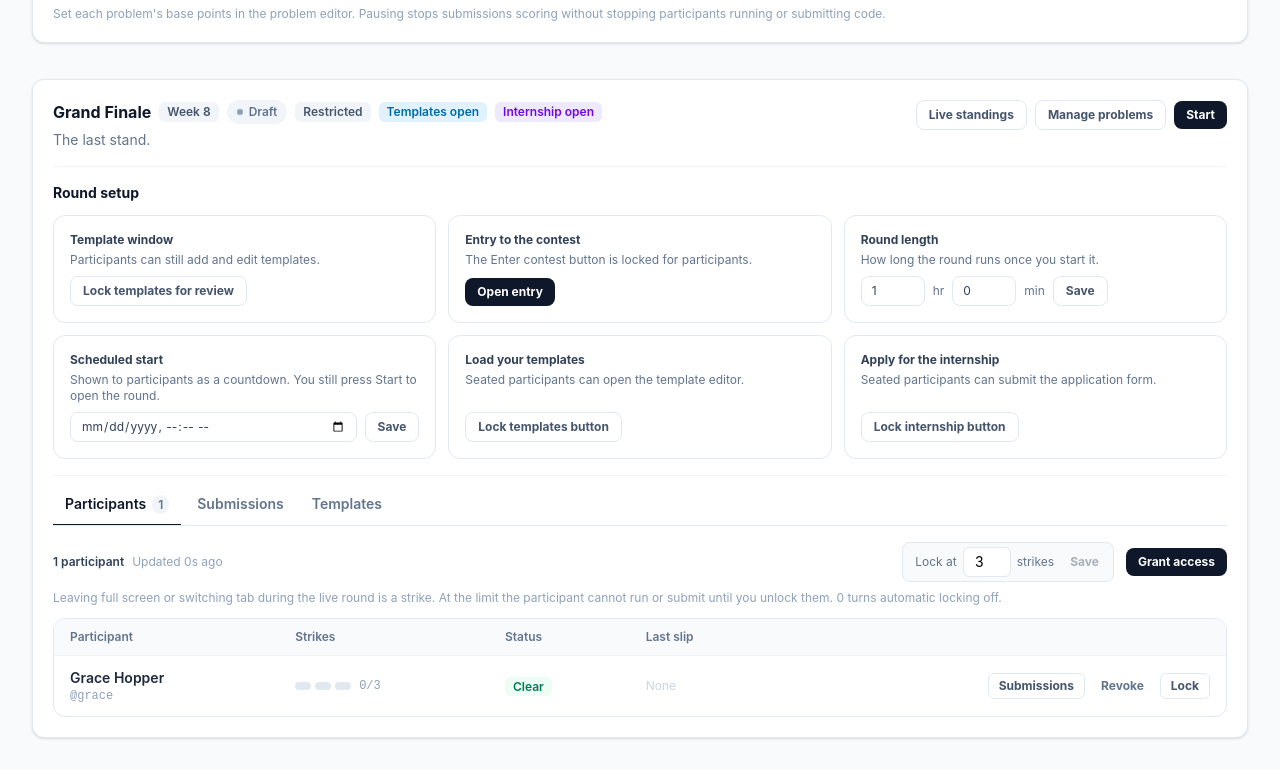
Test: FinalesPage › opens the submissions review filtered to a participant from their grant
(page scrolled)
Step 1. Click the button "Submissions" → (1036, 686), box [988, 673, 1085, 699]
(page scrolled)
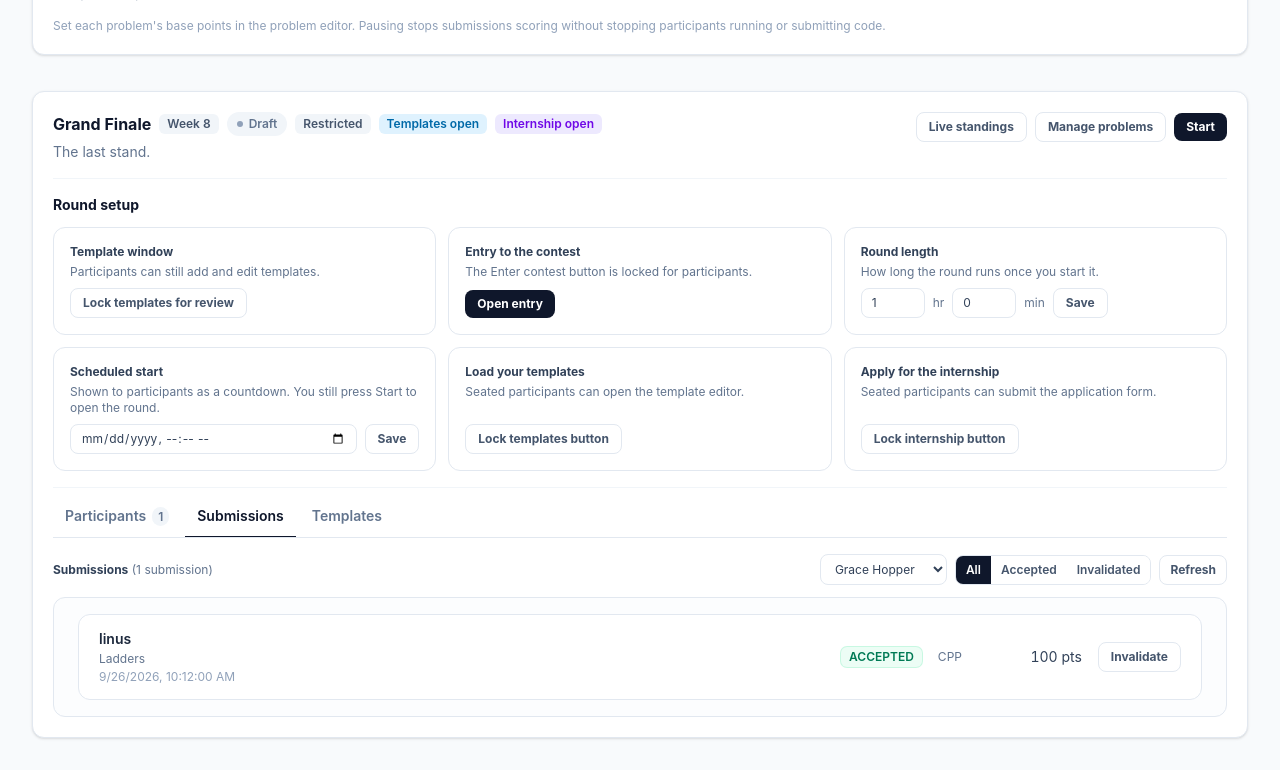
Check: the text "Ladders" is shown, box [99, 651, 145, 666]
Check: the button "Invalidate" is shown, box [1098, 642, 1181, 672]
